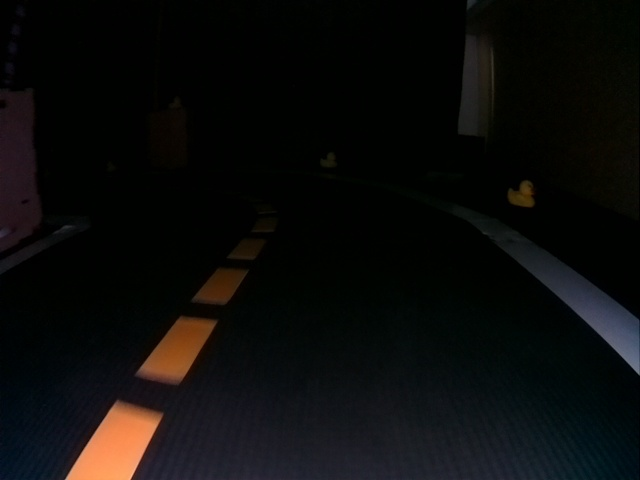Duckie: (507, 180, 535, 206), (321, 153, 336, 168)
